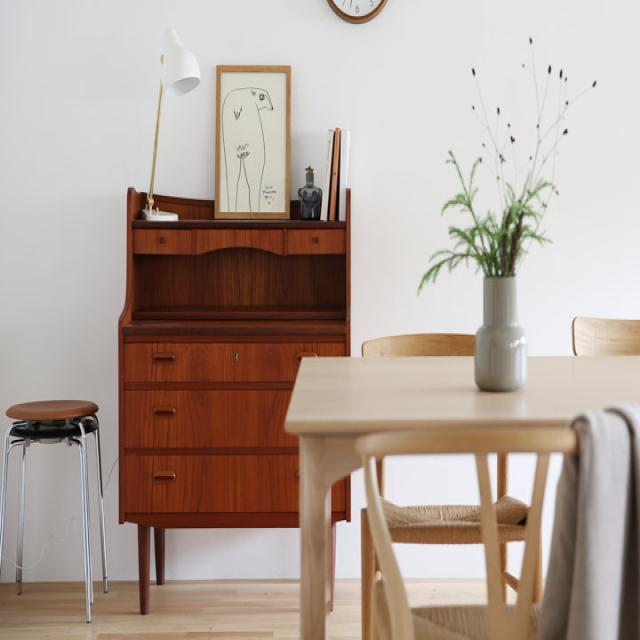vintage shelf: (121, 178, 343, 620)
